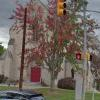Traffic light: (54, 0, 81, 24)
